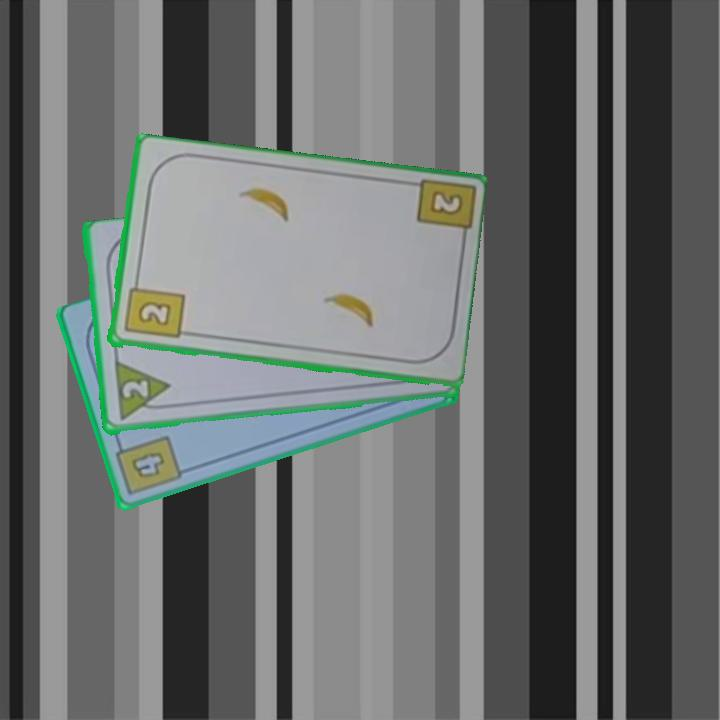2b: (120, 275, 186, 342), (426, 187, 466, 219)
2p: (118, 376, 151, 402)
4b: (112, 432, 185, 499)
